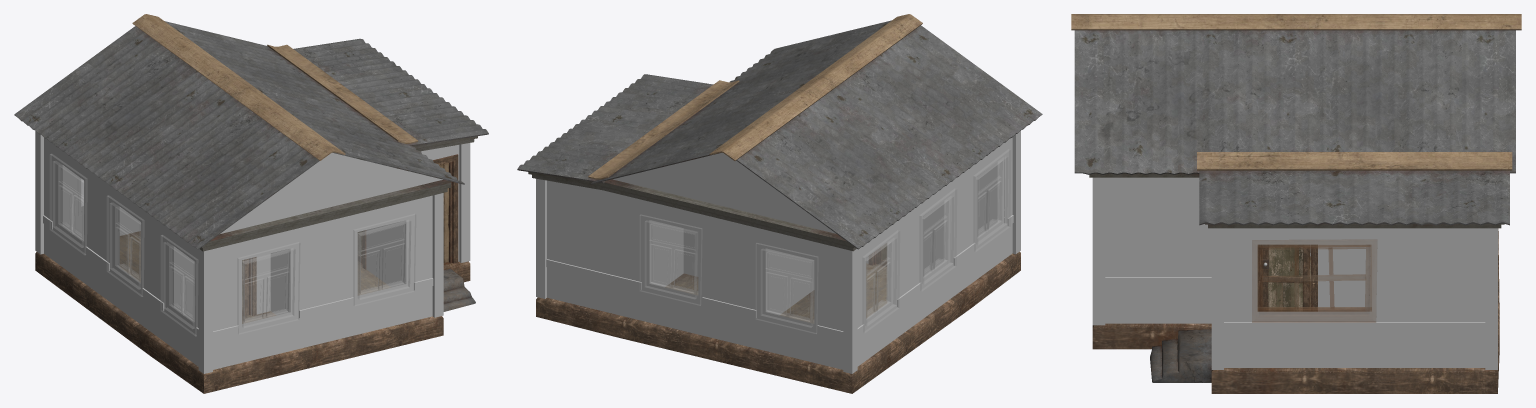
3 renders of one model, left to right at view 1: azimuth 30°, elevation 25°; view 2: azimuth 150°, elevation 25°; view 3: azimuth 270°, elevation 25°, orthographic. The views are drawn at different scales.
Parts seen in each view (by area): view 1: Plane001_Shifer_0, Box001_Stena_0, Object_Pol_0, Object010_Okno1_0, Object009_Okno1_0, Shape002_Kozirek_0, Object013_Okno1_0, Object012_Okno1_0, Object011_Okno1_0, Object003_Korob1_0, Box003, Box002 (+1 smaller); view 2: Box001_Stena_0, Plane001_Shifer_0, Object_Pol_0, Object014_Okno1_0, Object015_Okno1_0, Shape002_Kozirek_0, Object013_Okno1_0, Object012_Okno1_0, Object011_Okno1_0; view 3: Plane001_Shifer_0, Box001_Stena_0, Object_Pol_0, Object007_Okno2_0, Box005, Box003, Shape002_Kozirek_0, Object005_Korob2_0.
Part boxes in pixels (left/top/right/bottom): Plane001_Shifer_0: left=14, top=14, right=488, bottom=249; Box001_Stena_0: left=35, top=131, right=470, bottom=373; Object_Pol_0: left=35, top=231, right=470, bottom=393; Object010_Okno1_0: left=237, top=242, right=300, bottom=334; Object009_Okno1_0: left=353, top=214, right=415, bottom=305; Shape002_Kozirek_0: left=200, top=136, right=477, bottom=251; Object013_Okno1_0: left=50, top=154, right=87, bottom=254; Object012_Okno1_0: left=107, top=195, right=144, bottom=296; Object011_Okno1_0: left=161, top=235, right=198, bottom=336; Object003_Korob1_0: left=433, top=154, right=458, bottom=263; Box003: left=443, top=269, right=475, bottom=311; Box002: left=439, top=163, right=449, bottom=263; Box001_Stena_0: left=536, top=130, right=1020, bottom=373; Plane001_Shifer_0: left=517, top=14, right=1042, bottom=249; Object_Pol_0: left=536, top=251, right=1020, bottom=393; Object014_Okno1_0: left=756, top=243, right=818, bottom=333; Object015_Okno1_0: left=640, top=215, right=702, bottom=305; Shape002_Kozirek_0: left=528, top=172, right=856, bottom=251; Object013_Okno1_0: left=862, top=230, right=899, bottom=333; Object012_Okno1_0: left=919, top=188, right=956, bottom=291; Object011_Okno1_0: left=973, top=149, right=1010, bottom=251; Plane001_Shifer_0: left=1071, top=14, right=1521, bottom=225; Box001_Stena_0: left=1092, top=177, right=1497, bottom=369; Object_Pol_0: left=1092, top=228, right=1499, bottom=393; Object007_Okno2_0: left=1252, top=239, right=1377, bottom=322; Box005: left=1260, top=244, right=1310, bottom=311; Box003: left=1150, top=329, right=1211, bottom=382; Shape002_Kozirek_0: left=1089, top=173, right=1504, bottom=228; Object005_Korob2_0: left=1257, top=244, right=1317, bottom=311.
Bounding box in the file's own units: 722 × 442 × 683.
